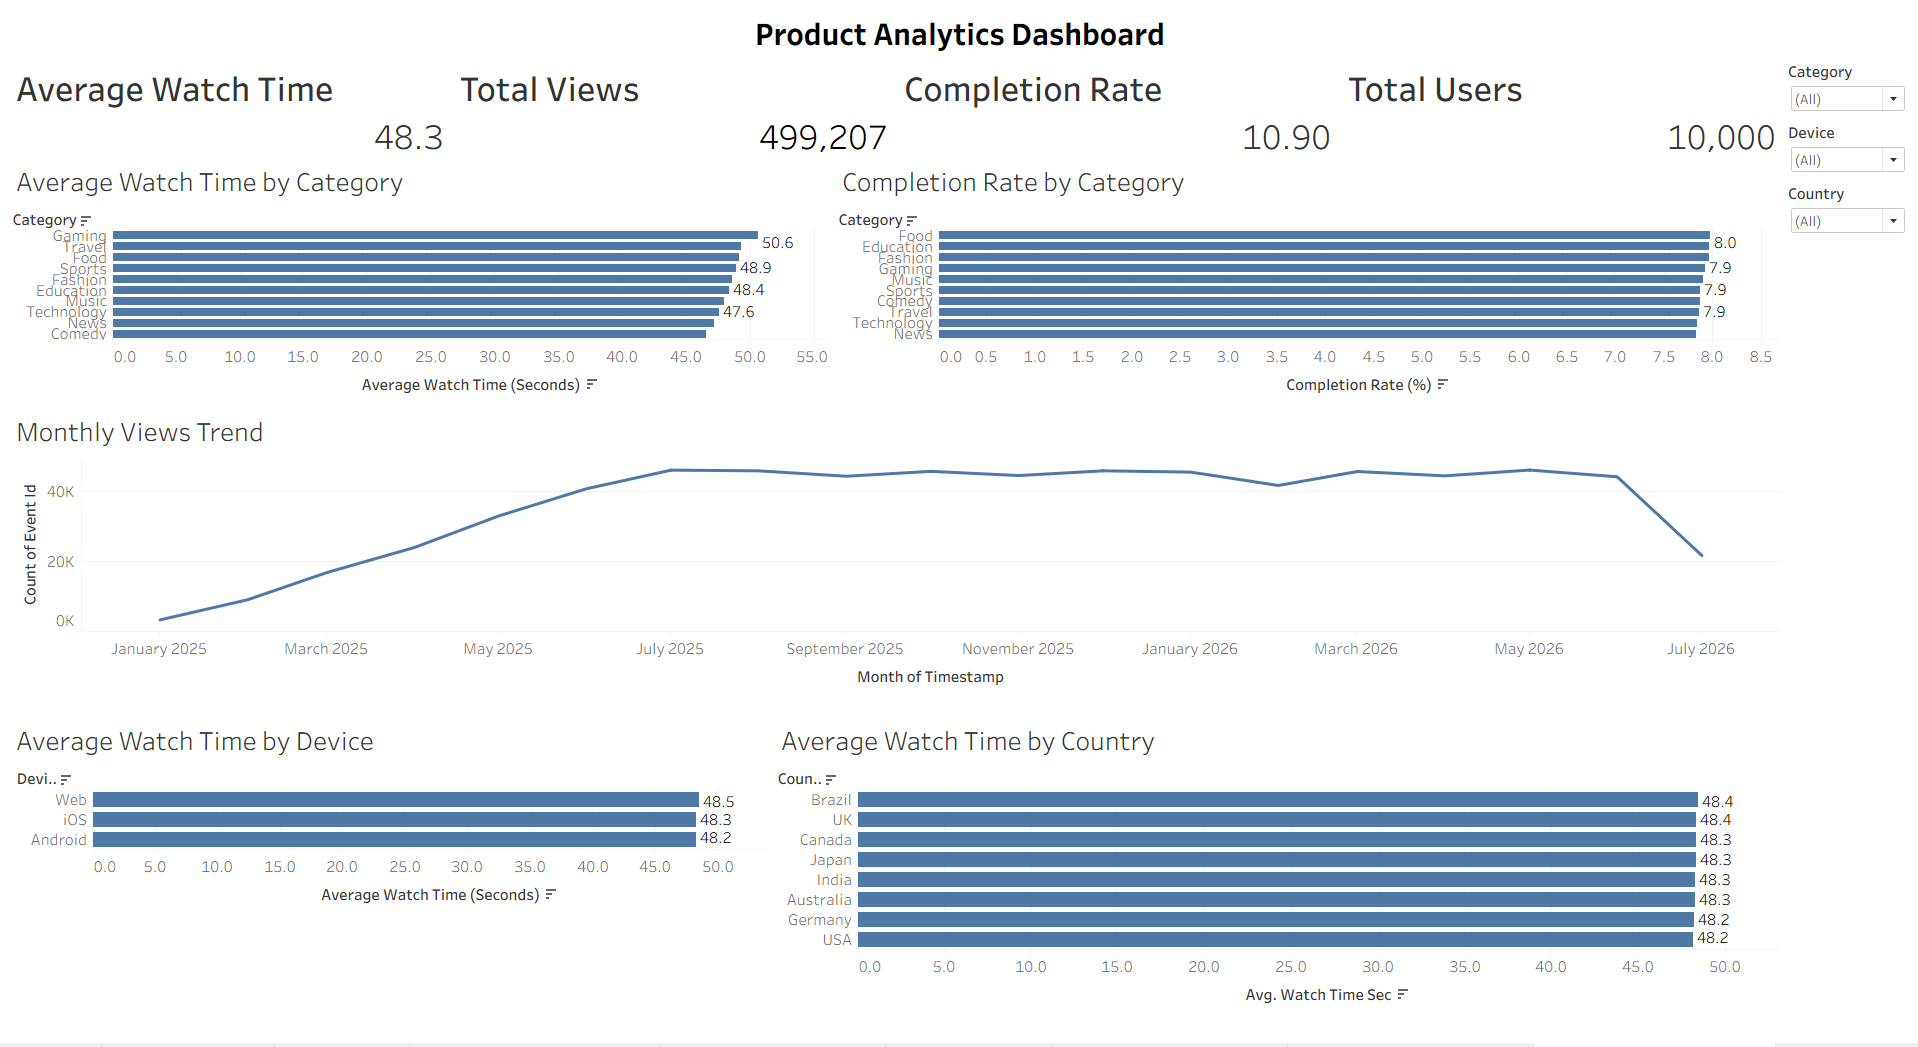

This screenshot's page, from the dashboard's own definition file:
{"tool":"tableau","page":{"name":"Product Analytics Dashboard","canvas":[1000,1000],"units":"permille","ordinal":0},"visuals":[{"type":"title","box":[4.7,9.4,990.6,57.6]},{"type":"worksheet","title":"KPI - Average Watch Time","mark":"Automatic","box":[4.7,67,228.9,116.3]},{"type":"worksheet","title":"KPI - Total Views","mark":"Automatic","box":[233.6,67,228.9,116.3]},{"type":"worksheet","title":"KPI - Completion Rate","mark":"Automatic","box":[462.5,67,228.9,116.3]},{"type":"worksheet","title":"KPI - Total Users","mark":"Automatic","box":[691.4,67,228.9,116.3]},{"type":"filter","title":"Average Watch Time by Category","param":"[federated.1pedvgz0roz01q1bxx8uz1qxcuvf].[none:category:nk]","box":[920.3,67,75,71.7]},{"type":"filter","title":"Average Watch Time by Device","param":"[federated.1pedvgz0roz01q1bxx8uz1qxcuvf].[none:device:nk]","box":[920.3,138.7,75,71.7]},{"type":"worksheet","title":"Average Watch Time by Category","mark":"Automatic","rows":["category"],"cols":["watch_time_sec"],"box":[4.7,183.3,483.9,293.8]},{"type":"worksheet","title":"Completion Rate by Category","mark":"Automatic","rows":["category"],"cols":["Calculation_2448368676040705"],"box":[488.6,183.3,431.7,293.8]},{"type":"filter","title":"Average Watch Time by Country","param":"[federated.1pedvgz0roz01q1bxx8uz1qxcuvf].[none:country:nk]","box":[920.3,210.3,75,71.7]},{"type":"worksheet","title":"Monthly Views Trend","mark":"Line","rows":["event_id"],"cols":["timestamp"],"box":[4.7,477.1,915.6,211.5]},{"type":"worksheet","title":"Average Watch Time by Device","mark":"Automatic","rows":["device"],"cols":["watch_time_sec"],"box":[4.7,688.5,448.2,302.1]},{"type":"worksheet","title":"Average Watch Time by Country","mark":"Automatic","rows":["country"],"cols":["watch_time_sec"],"box":[452.9,688.5,467.5,302.1]}]}

Visuals, with their boxes on the dashboard's canvas, which has no fixed pixel size, in thousandths of its width and height (x1, y1, x2, y2). These are canvas units, not pixel positions in the 1918x1047 screenshot, which may show the page scaled, cropped or inside an application window:
title: [5, 9, 995, 67]
"KPI - Average Watch Time" worksheet: [5, 67, 234, 183]
"KPI - Total Views" worksheet: [234, 67, 462, 183]
"KPI - Completion Rate" worksheet: [462, 67, 691, 183]
"KPI - Total Users" worksheet: [691, 67, 920, 183]
"Average Watch Time by Category" filter: [920, 67, 995, 139]
"Average Watch Time by Device" filter: [920, 139, 995, 210]
"Average Watch Time by Category" worksheet: [5, 183, 489, 477]
"Completion Rate by Category" worksheet: [489, 183, 920, 477]
"Average Watch Time by Country" filter: [920, 210, 995, 282]
"Monthly Views Trend" worksheet (Line marks): [5, 477, 920, 689]
"Average Watch Time by Device" worksheet: [5, 688, 453, 991]
"Average Watch Time by Country" worksheet: [453, 688, 920, 991]
